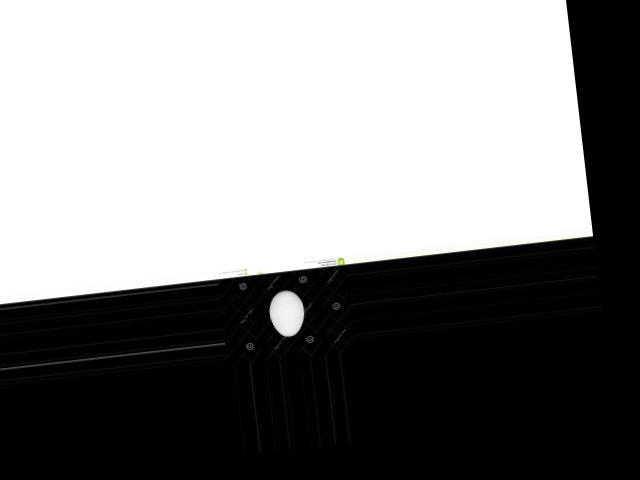egg: (266, 288, 306, 338)
